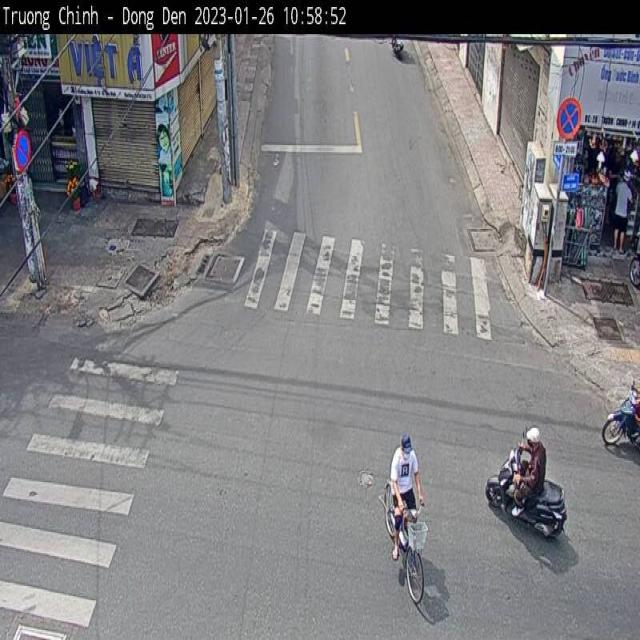with_helmet: (524, 418, 544, 458)
without_helmet: (398, 435, 415, 462)
